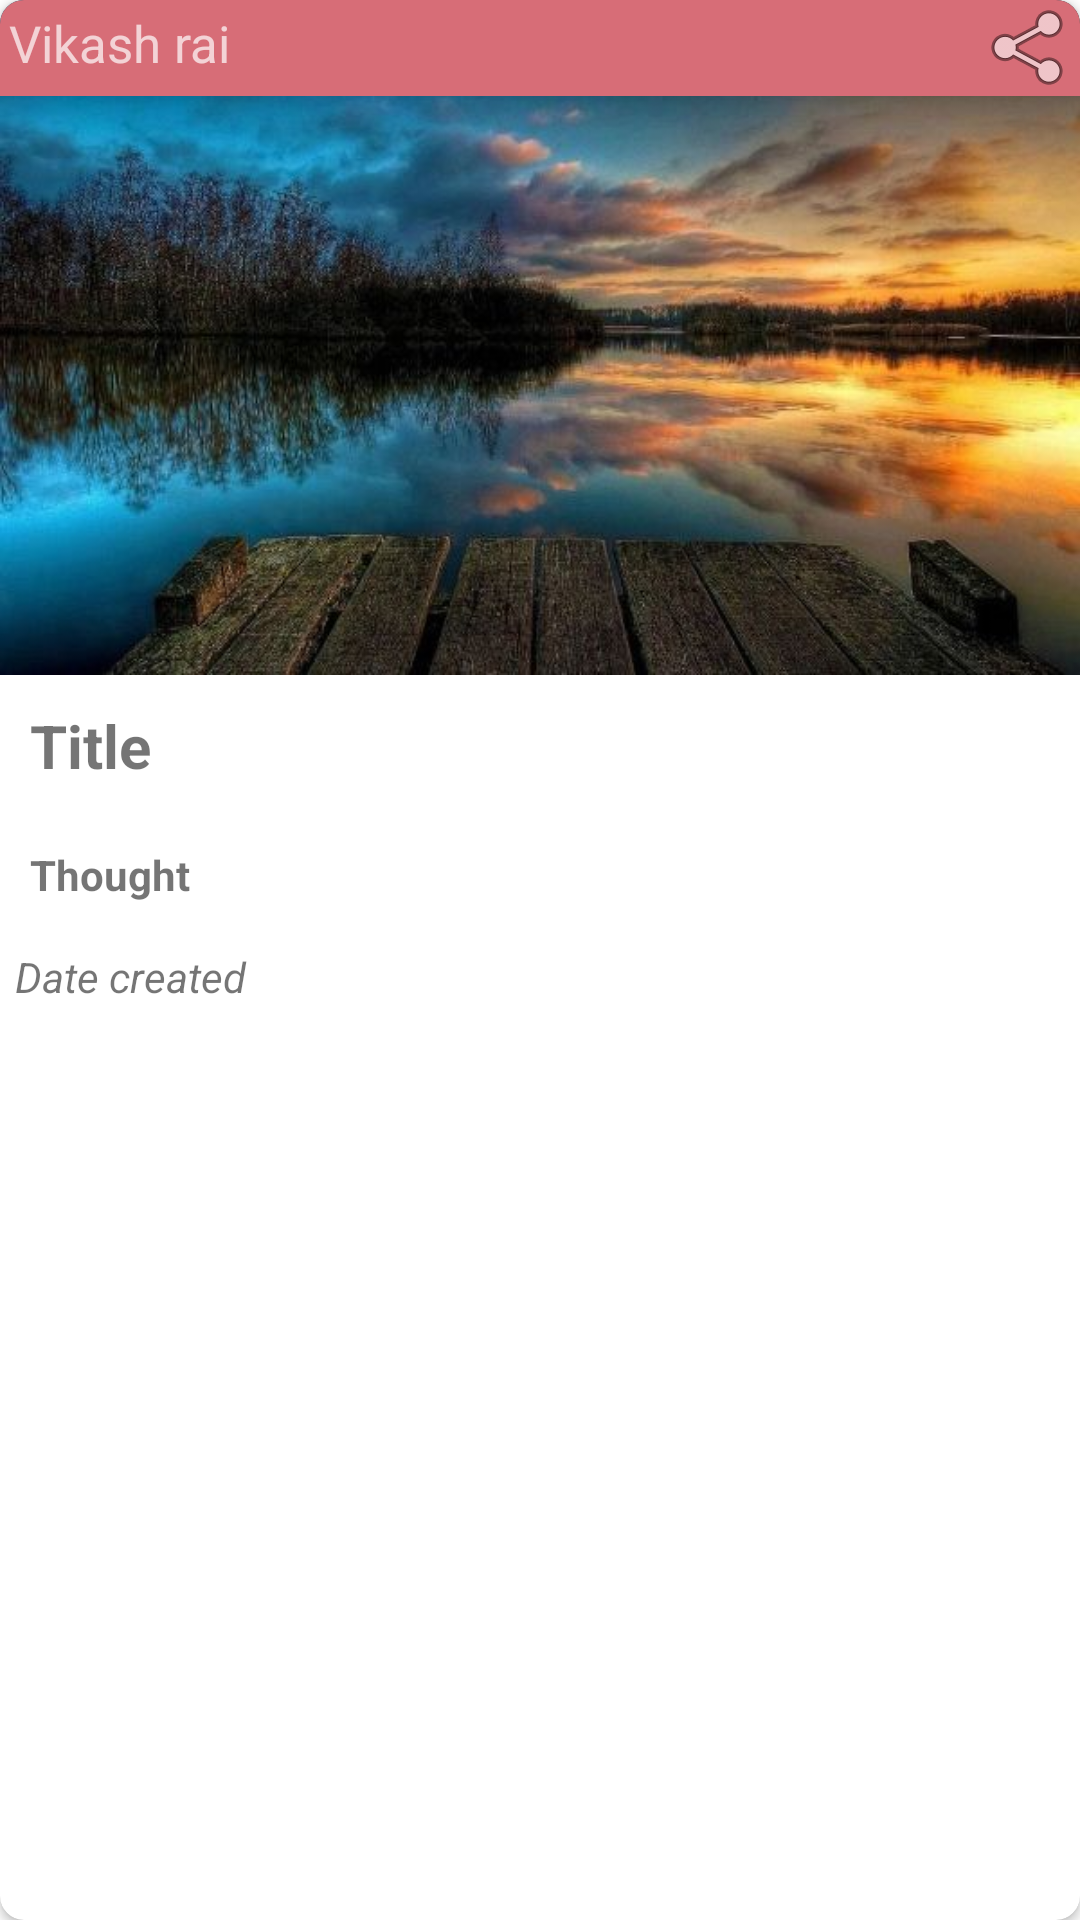

Screen size 1080x1920. Icon name, then its center in pixels as (x=x, y=y):
share the journal: (x=1032, y=48)
